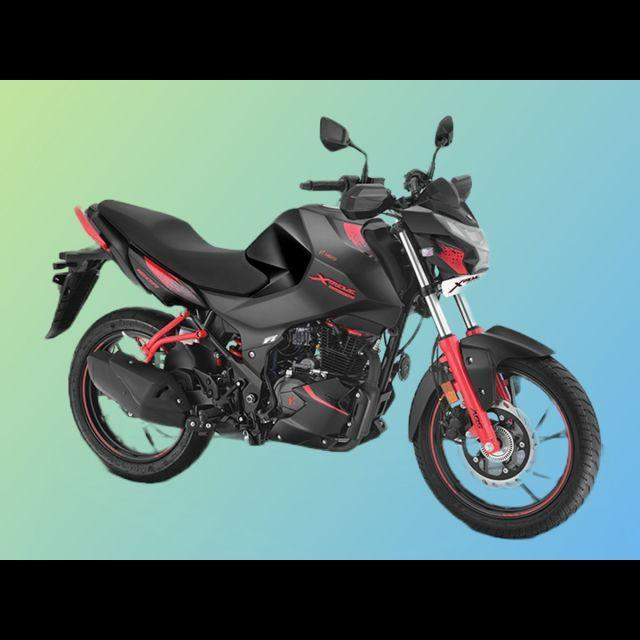motorcycle: (41, 111, 609, 546)
